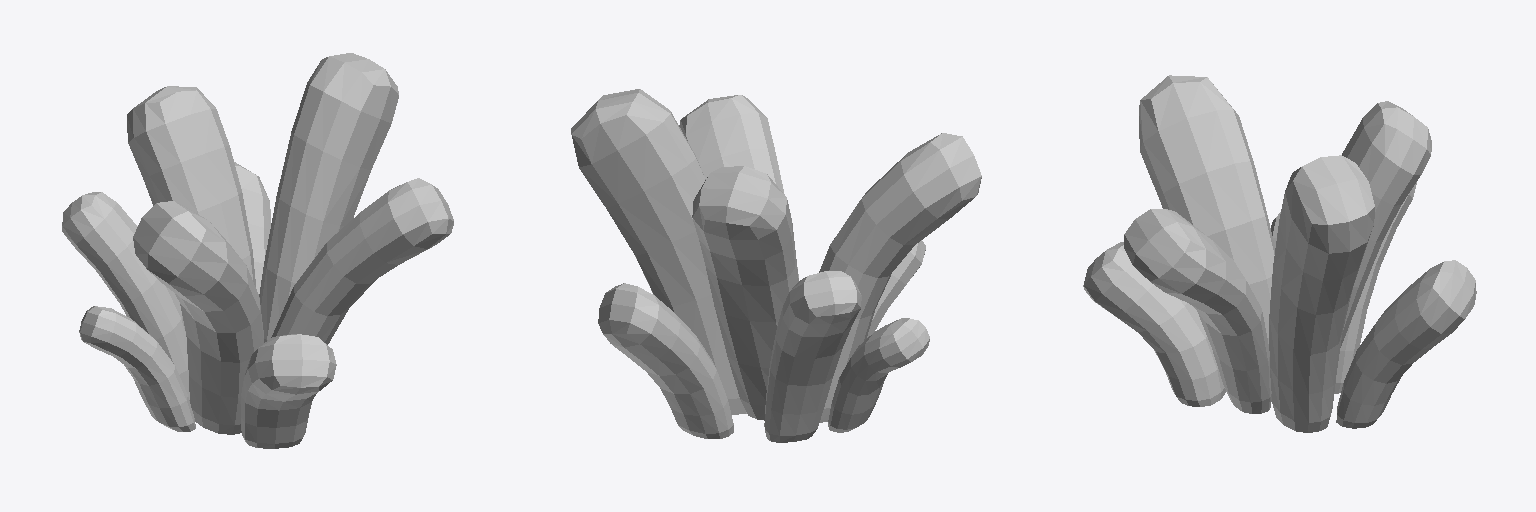
The model's file is Anemone_A_03_LOD0.obj.
The picture shows the model from 3 angles: view 1: azimuth 30°, elevation 25°; view 2: azimuth 150°, elevation 25°; view 3: azimuth 270°, elevation 25°; orthographic projection.
Parts seen in each view (by area): view 1: Anemone_A_03_LOD0_Cylinder.310; view 2: Anemone_A_03_LOD0_Cylinder.310; view 3: Anemone_A_03_LOD0_Cylinder.310.
Boxes of the visible parts, x1,y1,x2,y2 form: Anemone_A_03_LOD0_Cylinder.310: [62, 53, 453, 448]; Anemone_A_03_LOD0_Cylinder.310: [571, 89, 981, 442]; Anemone_A_03_LOD0_Cylinder.310: [1083, 75, 1476, 432].
Bounding box in the file's own units: 3.67 × 3.22 × 3.77.